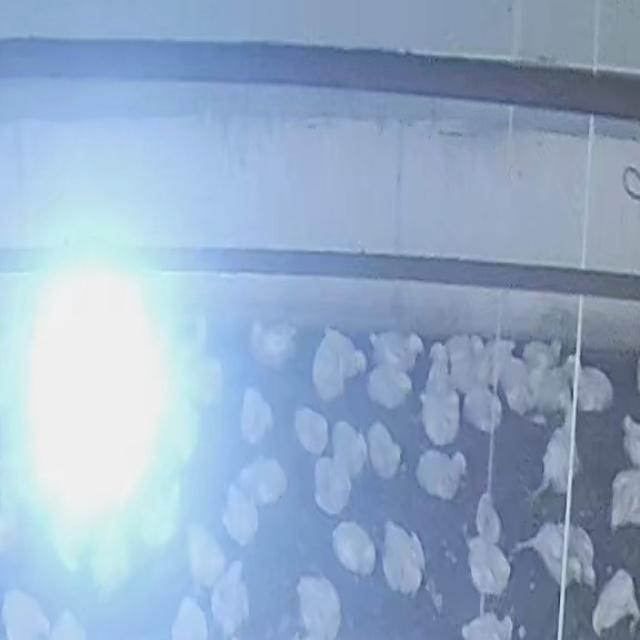chicken: (526, 518, 596, 592), (590, 568, 640, 637), (381, 521, 426, 595), (466, 534, 514, 599), (294, 572, 341, 638), (210, 562, 250, 636), (330, 518, 378, 578), (248, 318, 300, 370), (237, 456, 288, 509), (188, 524, 228, 588), (417, 451, 470, 498), (222, 482, 260, 547), (320, 328, 370, 377), (420, 388, 460, 447), (366, 361, 414, 410), (1, 587, 50, 635), (370, 329, 423, 373), (365, 420, 404, 479), (541, 427, 574, 496), (314, 457, 352, 516), (332, 419, 367, 482), (498, 353, 534, 412), (573, 366, 616, 415), (461, 384, 501, 435), (239, 387, 274, 445), (443, 334, 480, 388), (608, 469, 640, 529), (293, 405, 330, 455), (485, 338, 518, 394), (311, 349, 343, 402), (474, 494, 502, 546), (521, 339, 567, 366)
